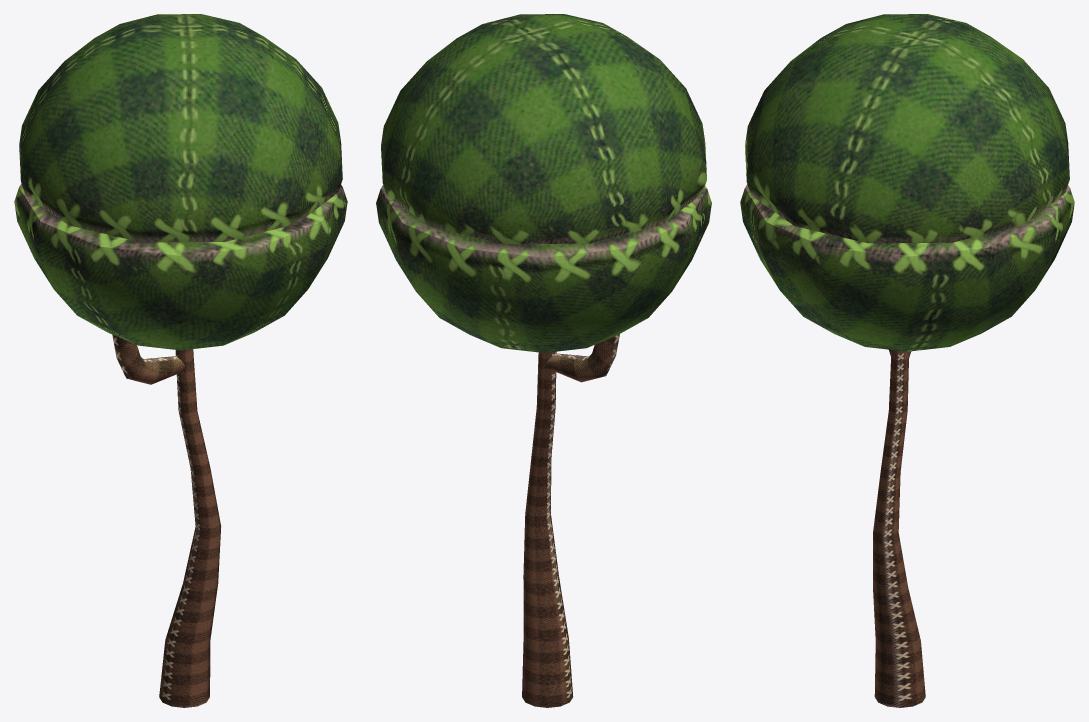
The model's file is lpb_cs_tree2.fbx.
The picture shows the model from 3 angles, left to right: view 1: azimuth 30°, elevation 25°; view 2: azimuth 150°, elevation 25°; view 3: azimuth 270°, elevation 25°; orthographic projection.
Parts seen in each view (by area): view 1: lpb_cs_tree2; view 2: lpb_cs_tree2; view 3: lpb_cs_tree2.
Boxes of the visible parts, box(x1,y1,x2,y2) form: lpb_cs_tree2: box(14, 14, 347, 707); lpb_cs_tree2: box(376, 14, 711, 707); lpb_cs_tree2: box(740, 14, 1074, 707).
Bounding box in the file's own units: 93.72 × 205 × 93.72.
